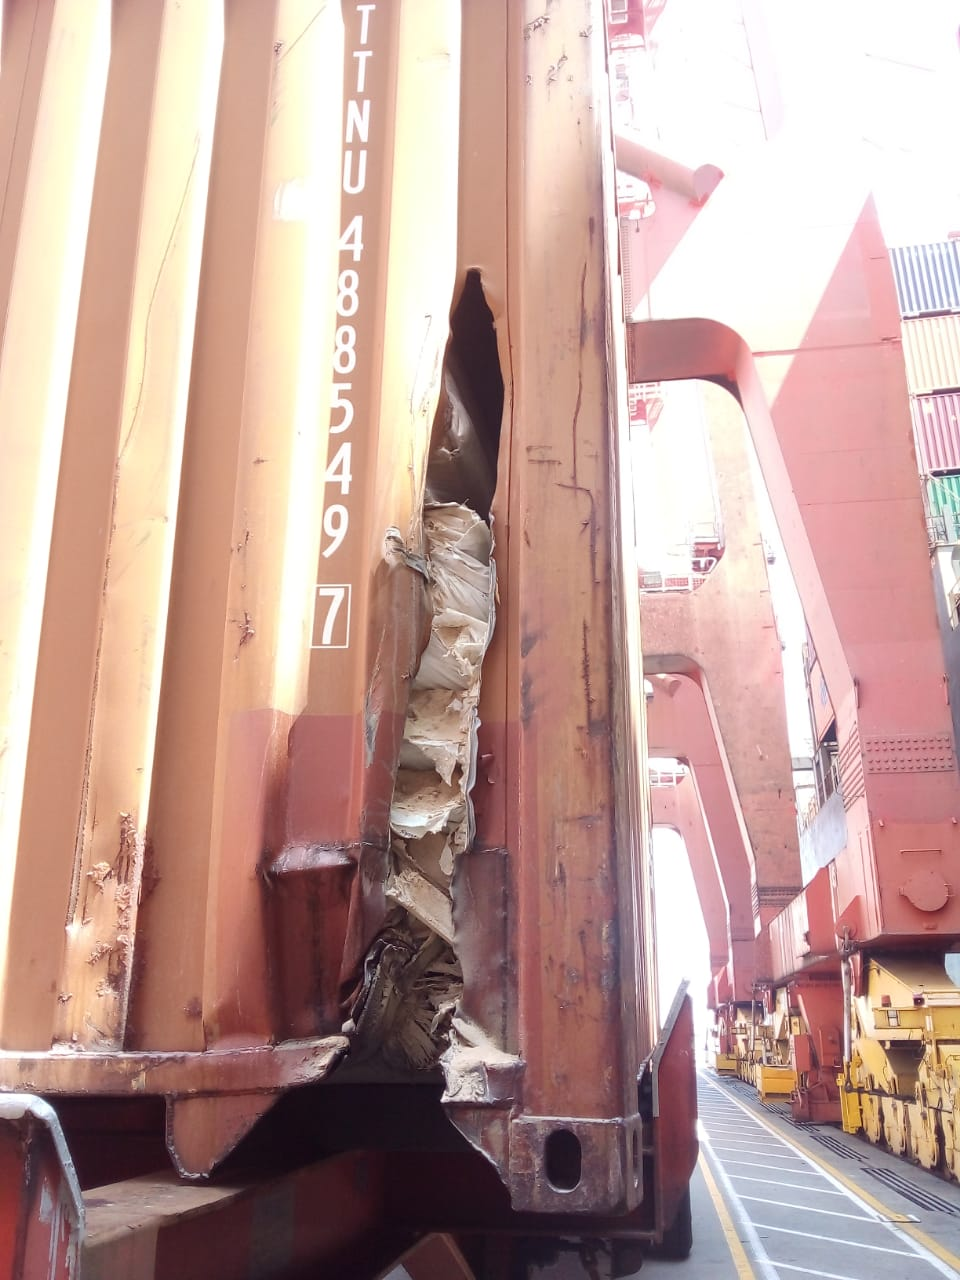severe: (328, 222, 539, 1115)
